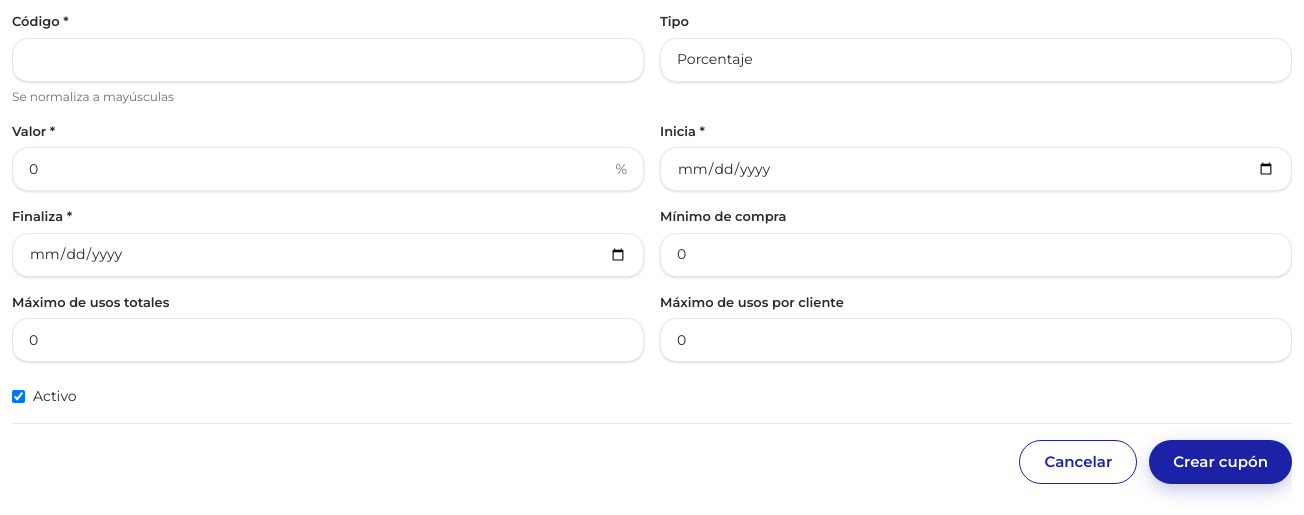
Test: CouponForm › oculta el campo Valor cuando type=free_shipping
Step 1. Select "Envío gratis" in the dropdown labelled "Tipo" → (976, 60), box [660,38,1292,82]
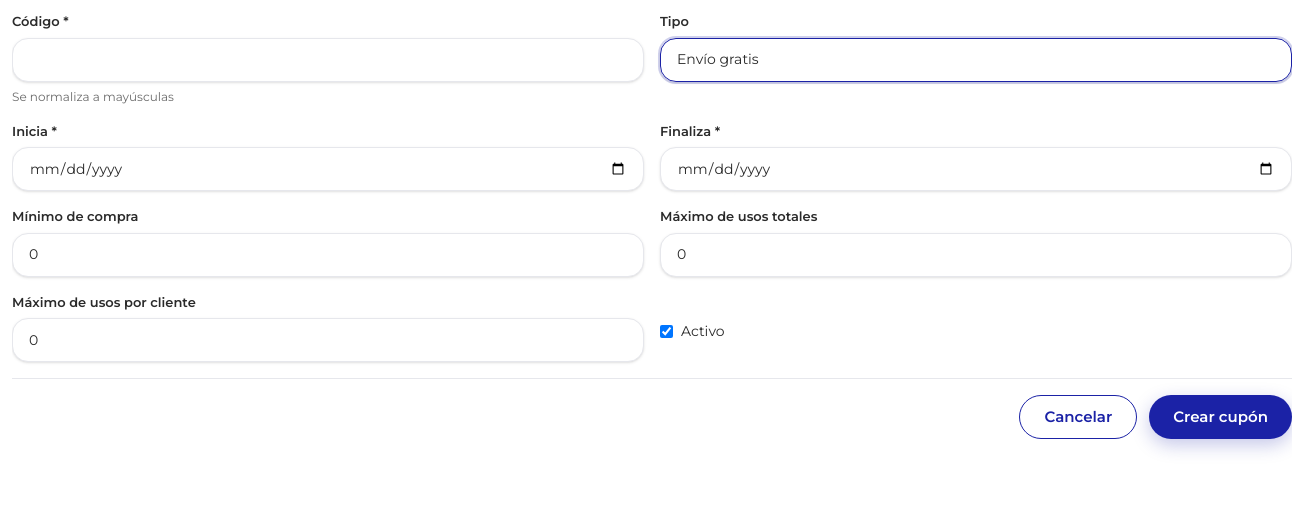
Check: the label labelled "Valor" is gone
